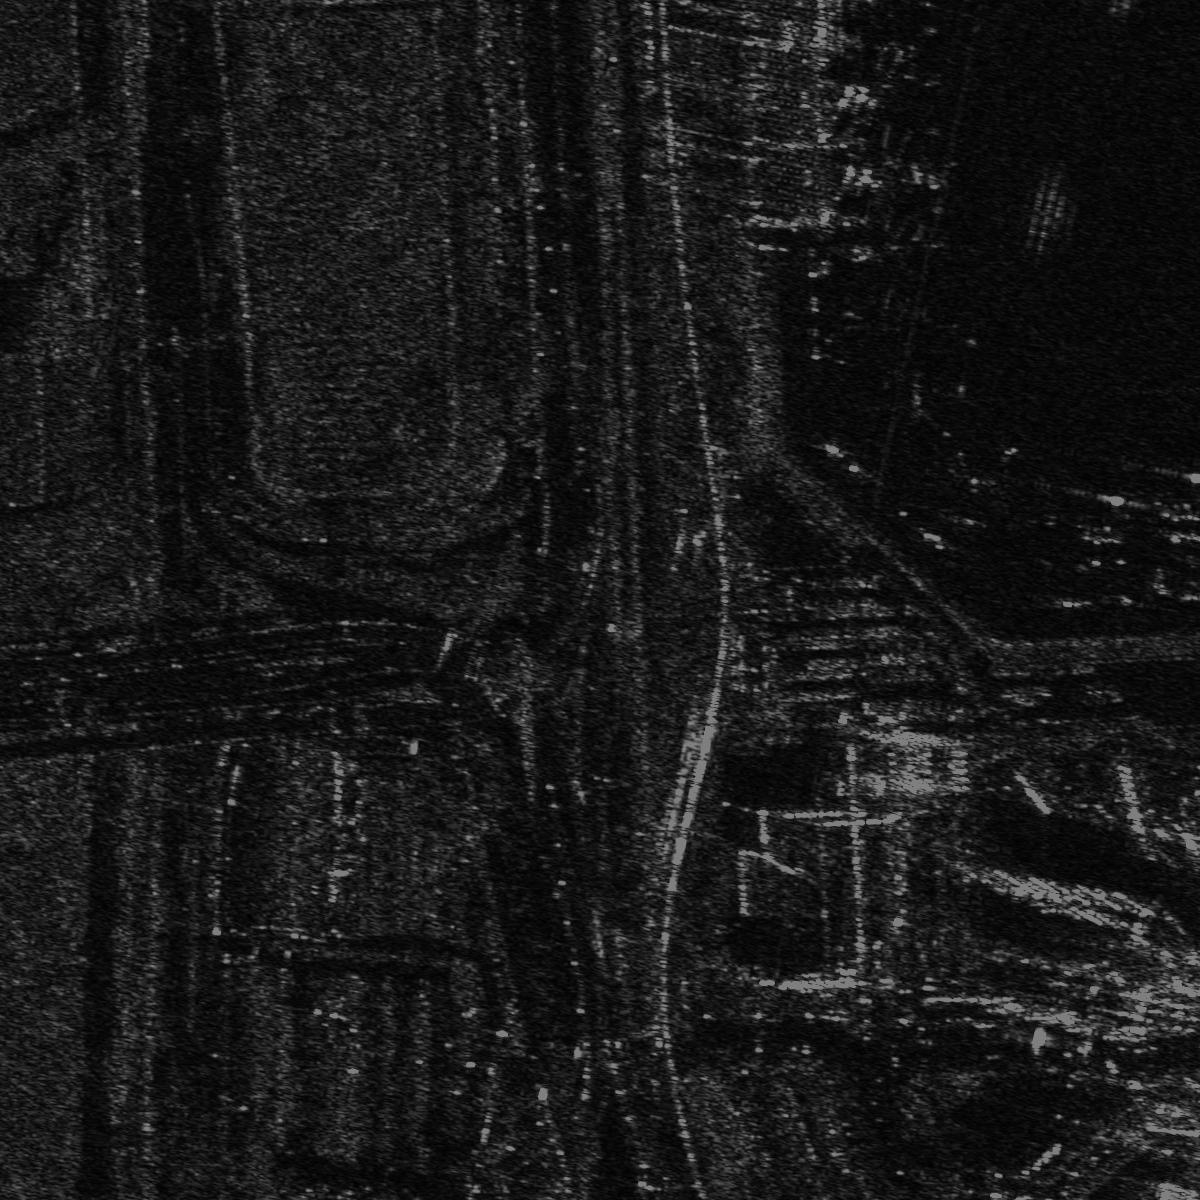A220: (1137, 464, 1199, 554)
Boeing737: (1051, 484, 1132, 557)
